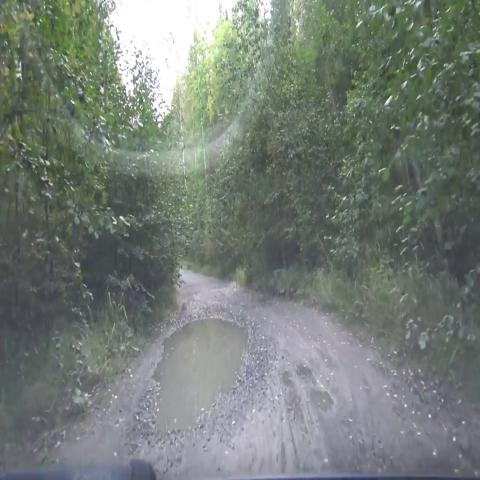pothole: (137, 287, 262, 459), (306, 374, 344, 427)
